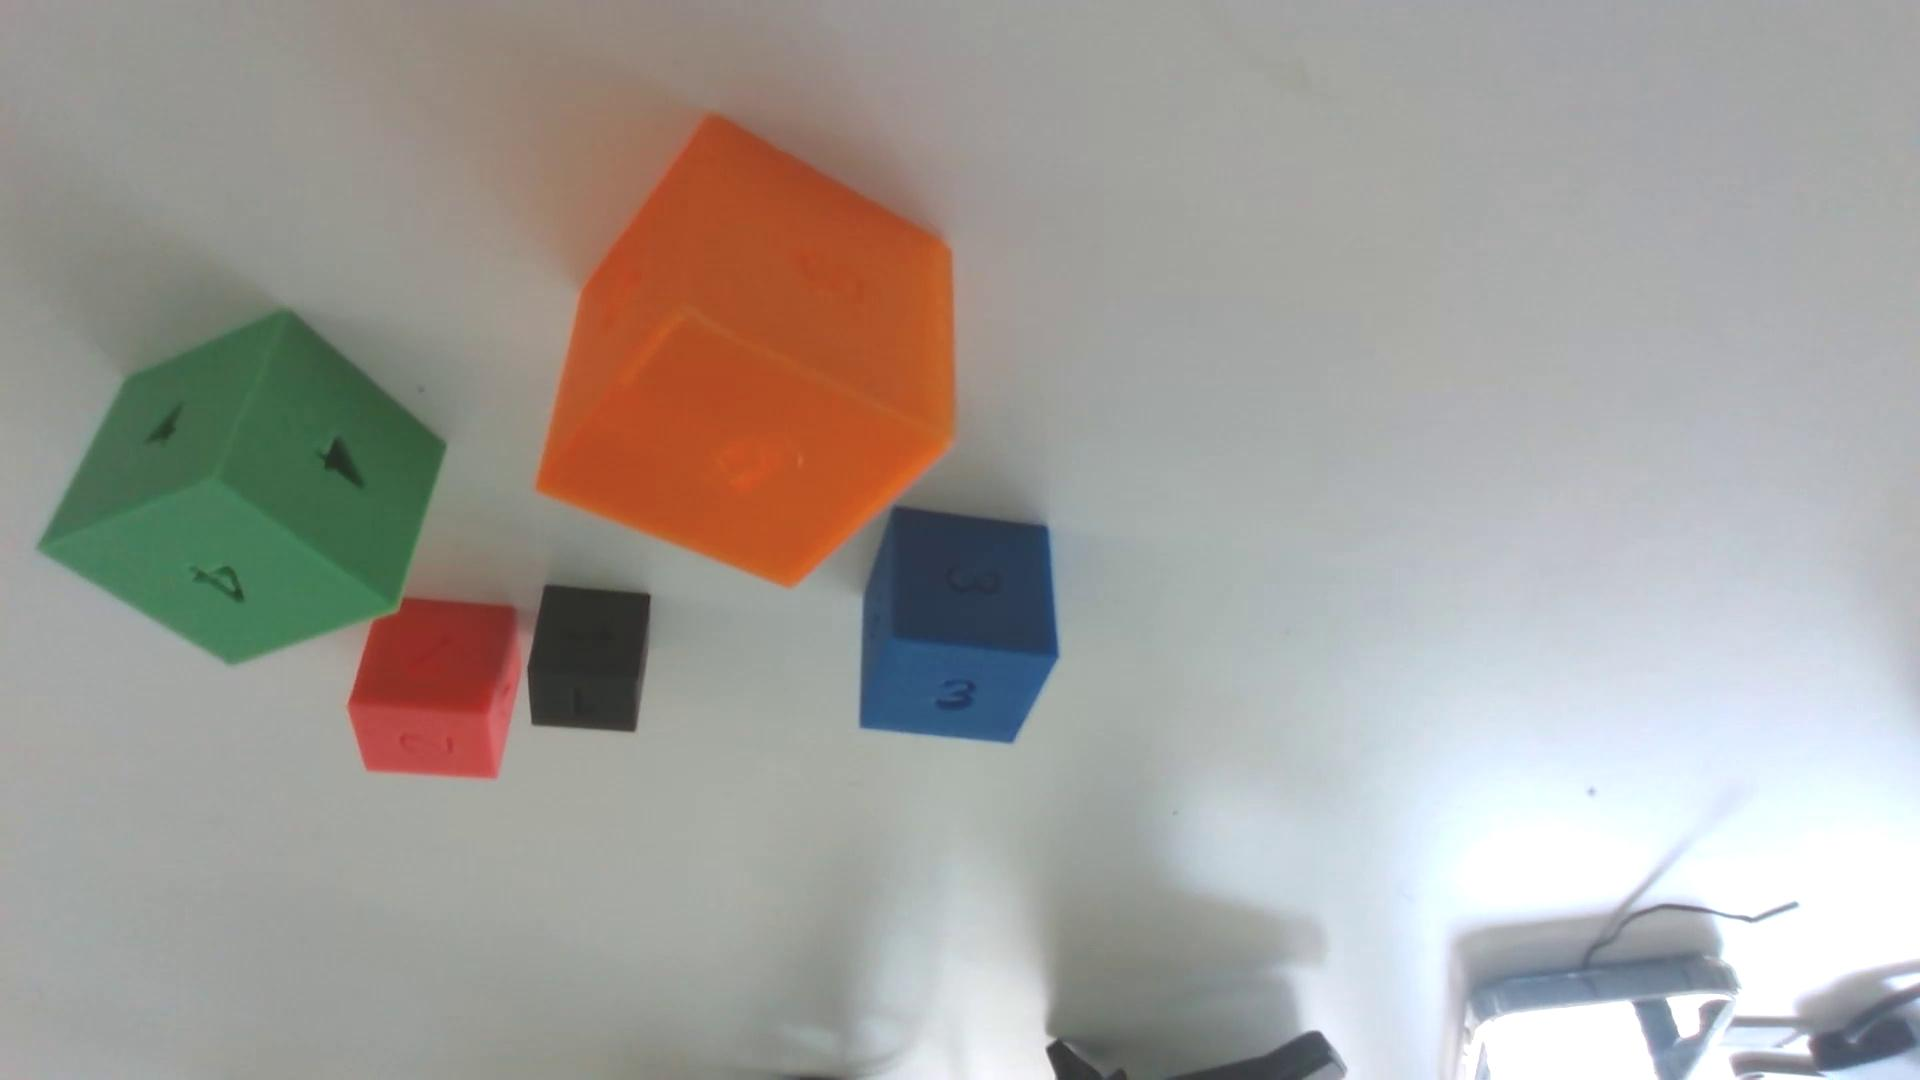black: (527, 583, 651, 731)
blue: (858, 506, 1059, 742)
green: (40, 311, 446, 662)
orange: (537, 117, 956, 584)
red: (348, 597, 524, 777)
